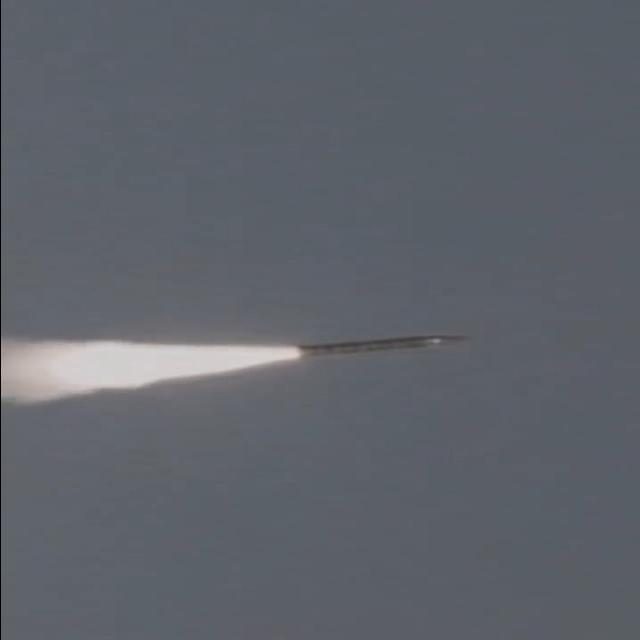missile: (290, 329, 472, 360)
